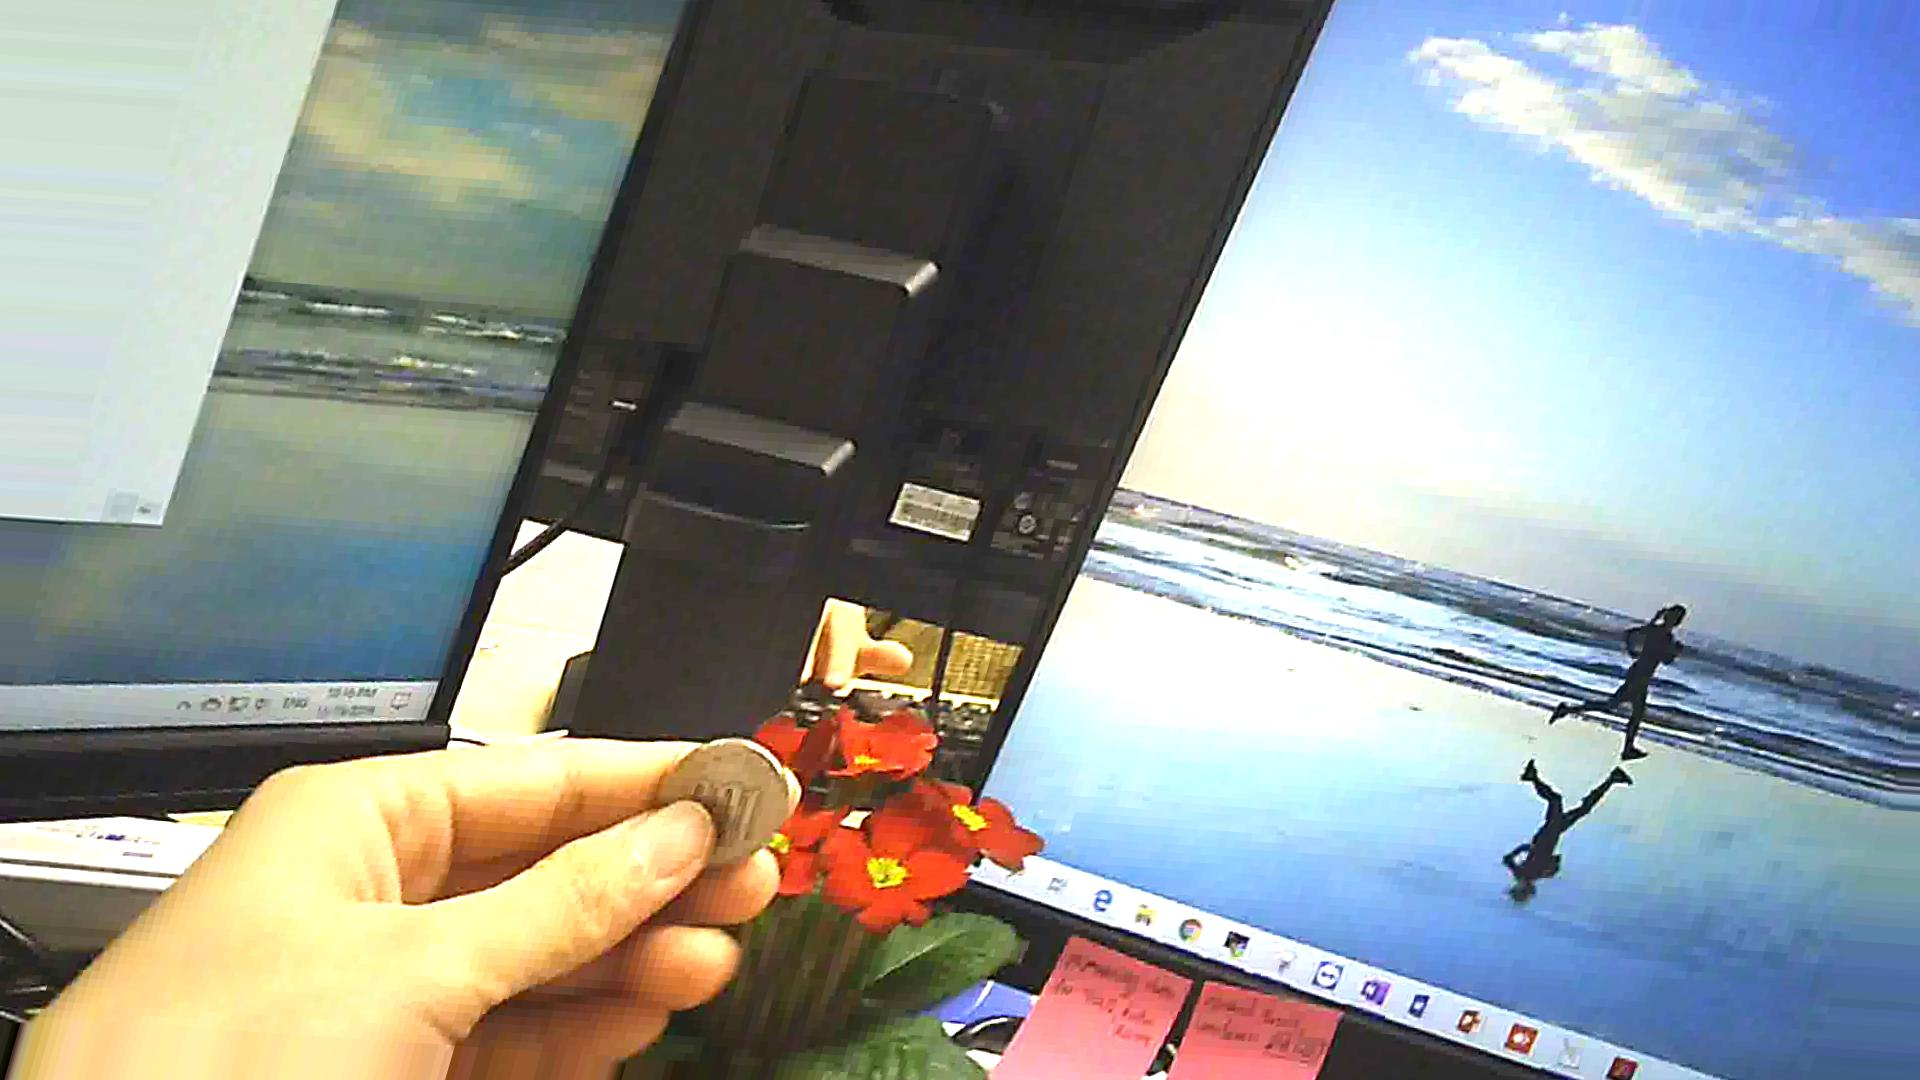100 Yen: (653, 737, 800, 861)
